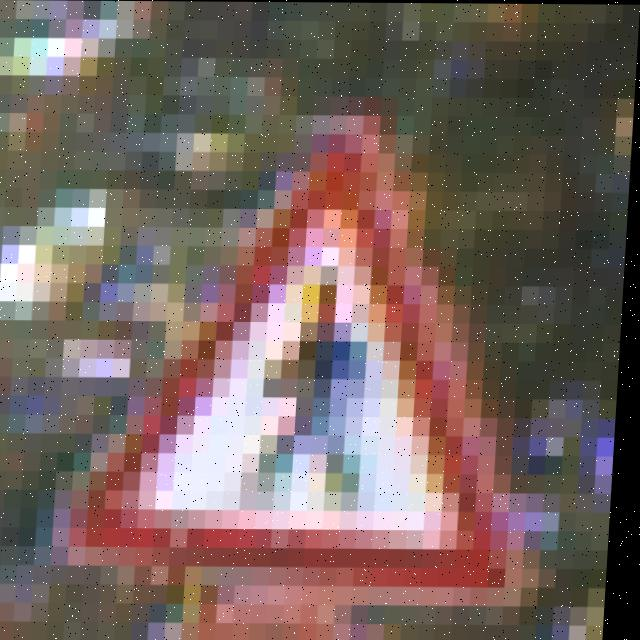crosswalk: (115, 165, 545, 574)
